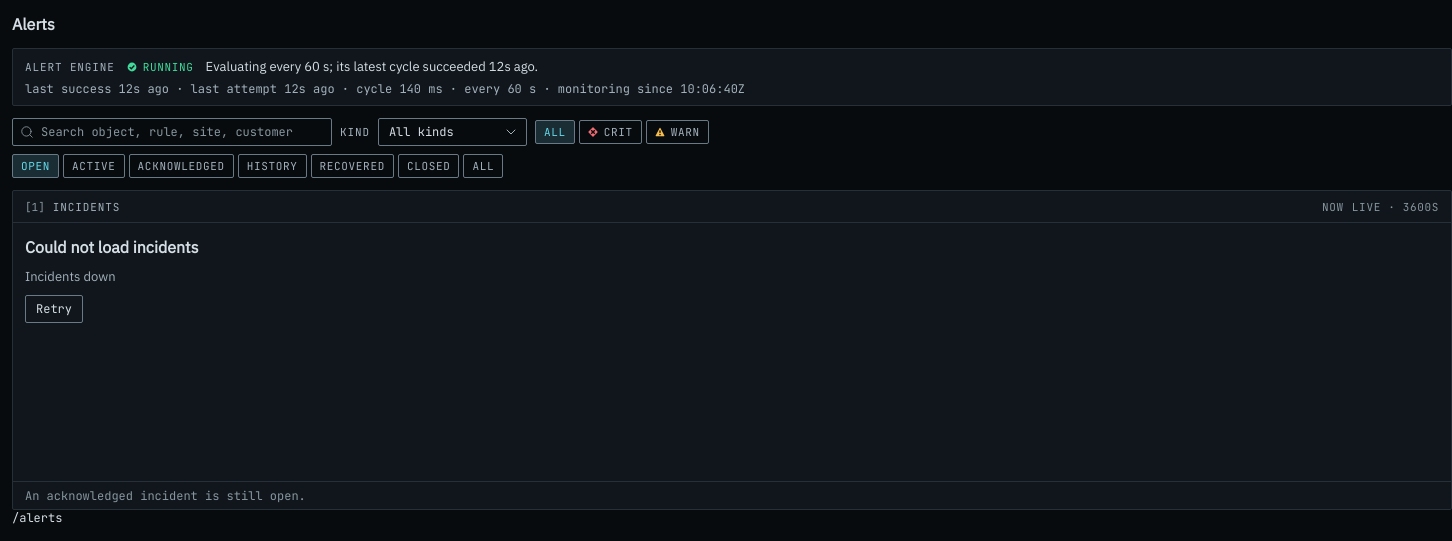
Test: failures › shows the error with Retry, and recovers, never falling back to other data
Expected: the message shows "Incidents down", [25, 268, 116, 285]
Step 1. Click the button "Retry" → (54, 309), box [25, 295, 83, 323]
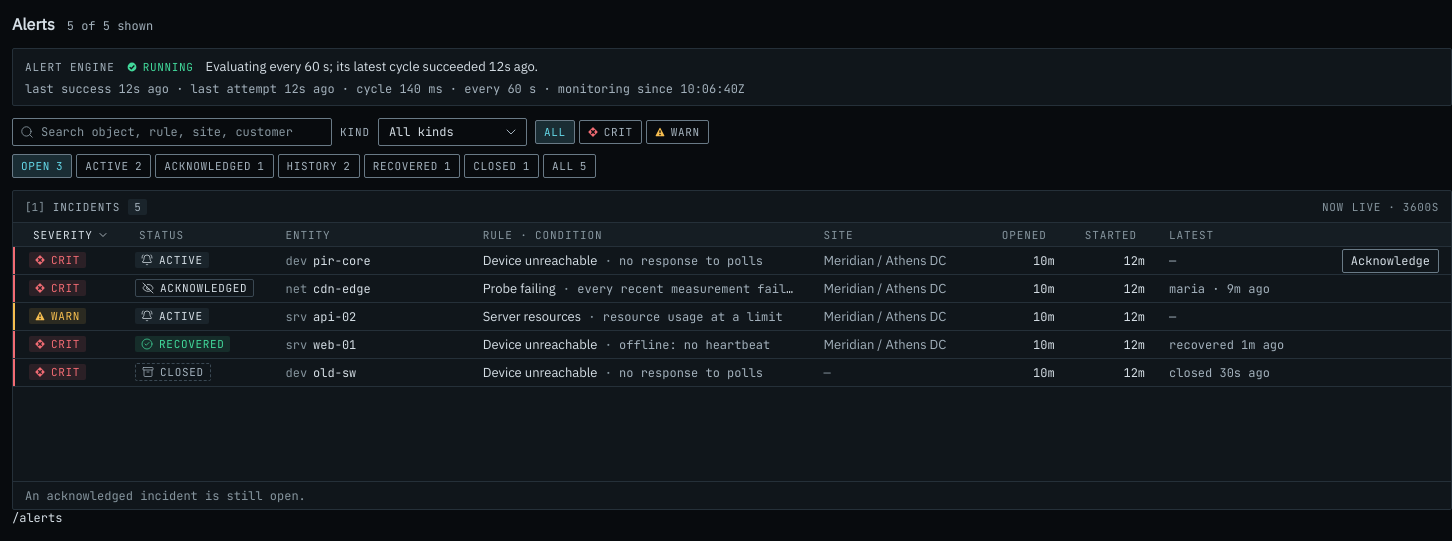
Expected: the table named "Incidents" is shown, [13, 223, 1451, 387]
